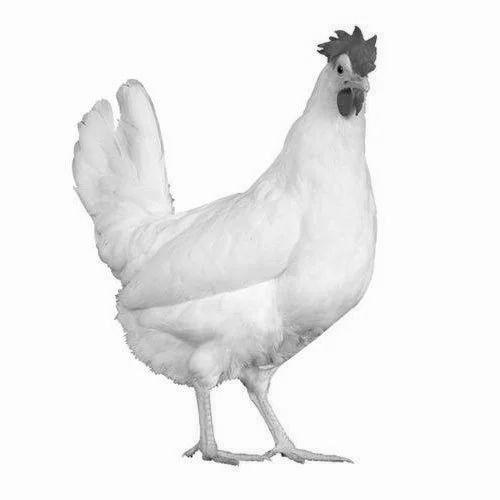Healthy: (67, 27, 406, 468)
